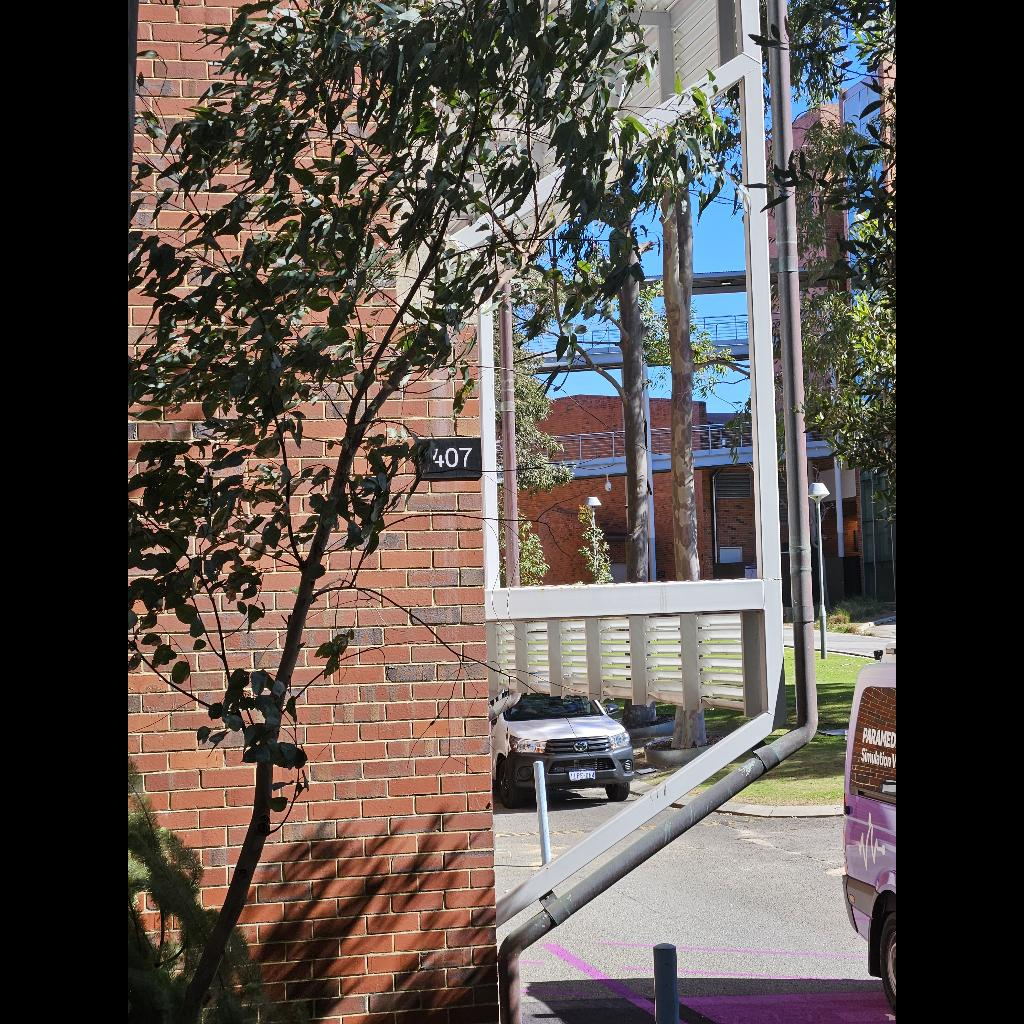BuildingCodes: (424, 440, 478, 476)
